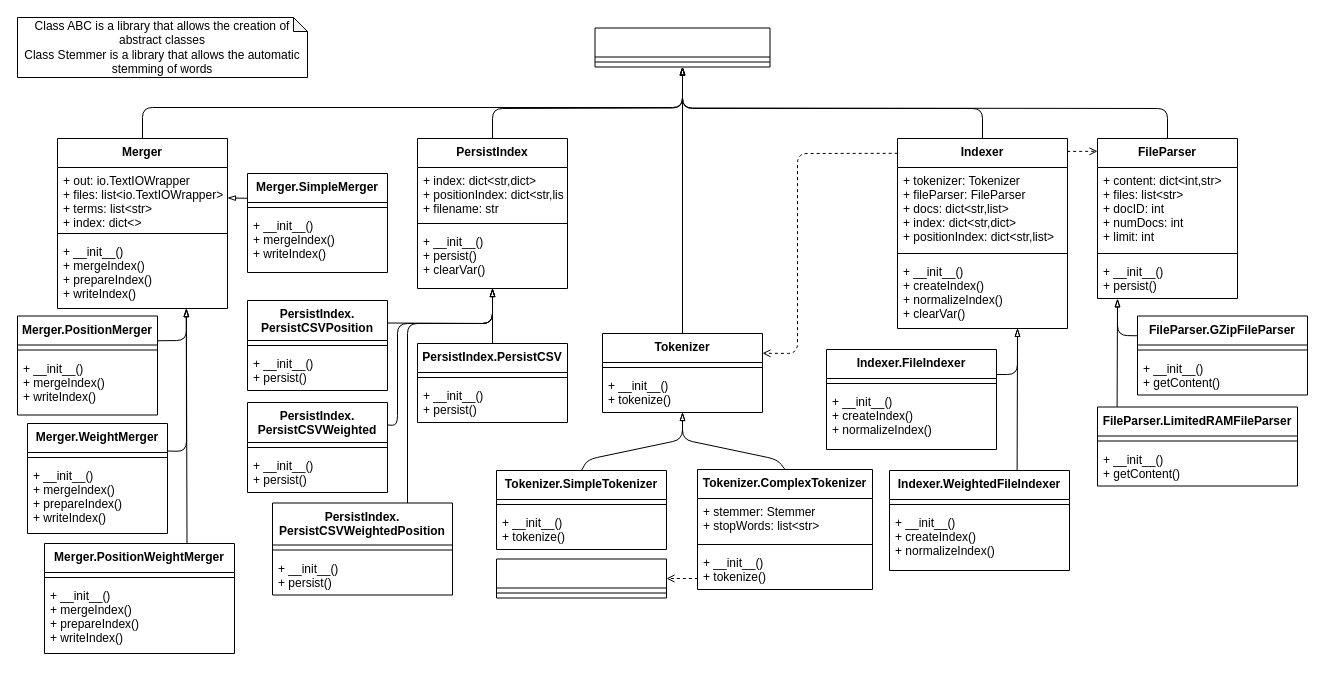
This 1325x674 diagram has some shape labels left out. Each missing label, with the centre of its shape:
"abc.ABC" belongs at point (682, 47).
"Stemmer" belongs at point (581, 578).
